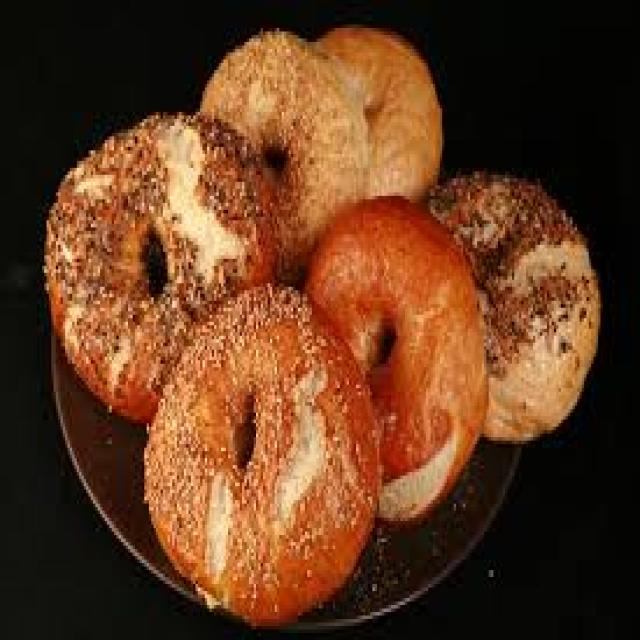Bagel: (145, 284, 380, 625), (46, 115, 275, 422), (306, 197, 487, 519), (431, 171, 600, 440), (201, 32, 367, 245), (319, 28, 443, 200)
